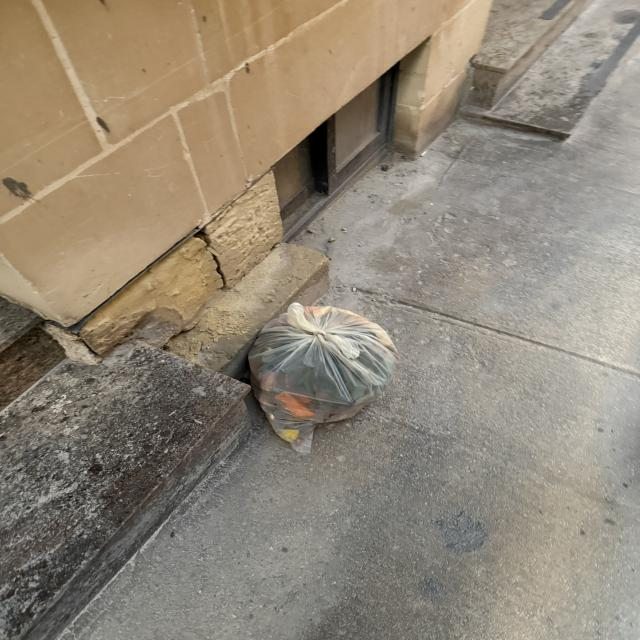Organic Waste -White Bags-: (246, 303, 400, 454)
